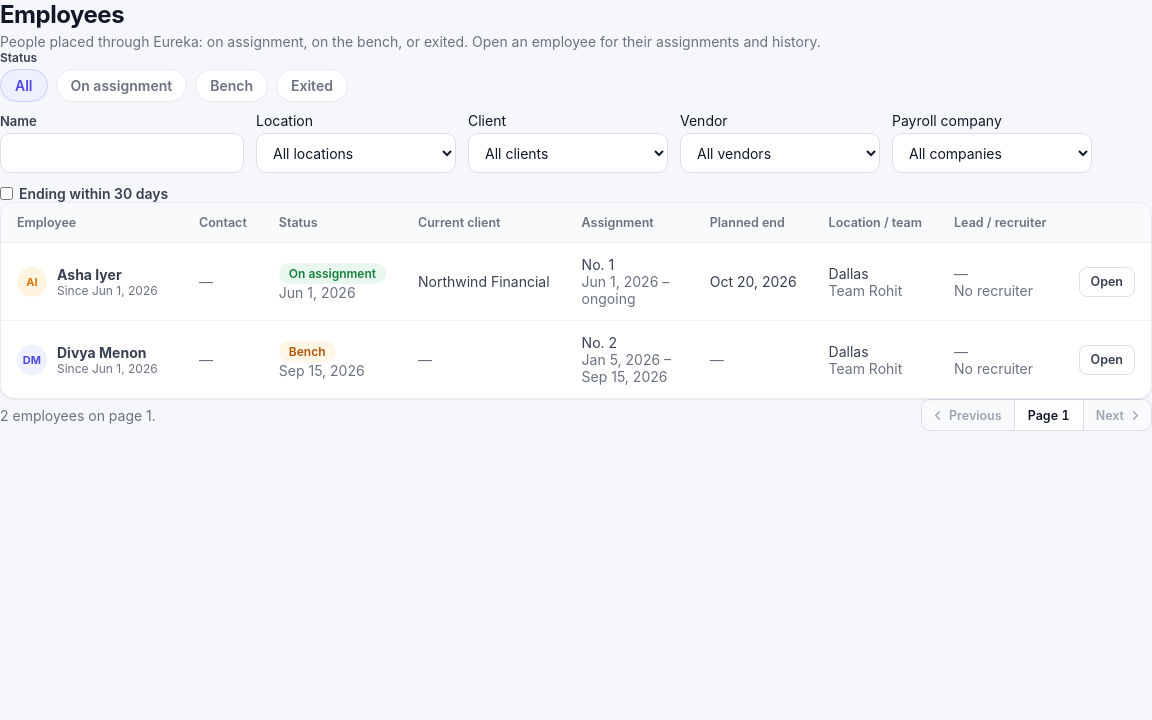
it: Employee drawer › refuses a future end date in the form, and shows server refusals in the dialog
This screenshot has width=1152, height=720.
Click the button "Open" in the row of "Asha Iyer" at (1107, 282), box left=1078, top=266, right=1135, bottom=296
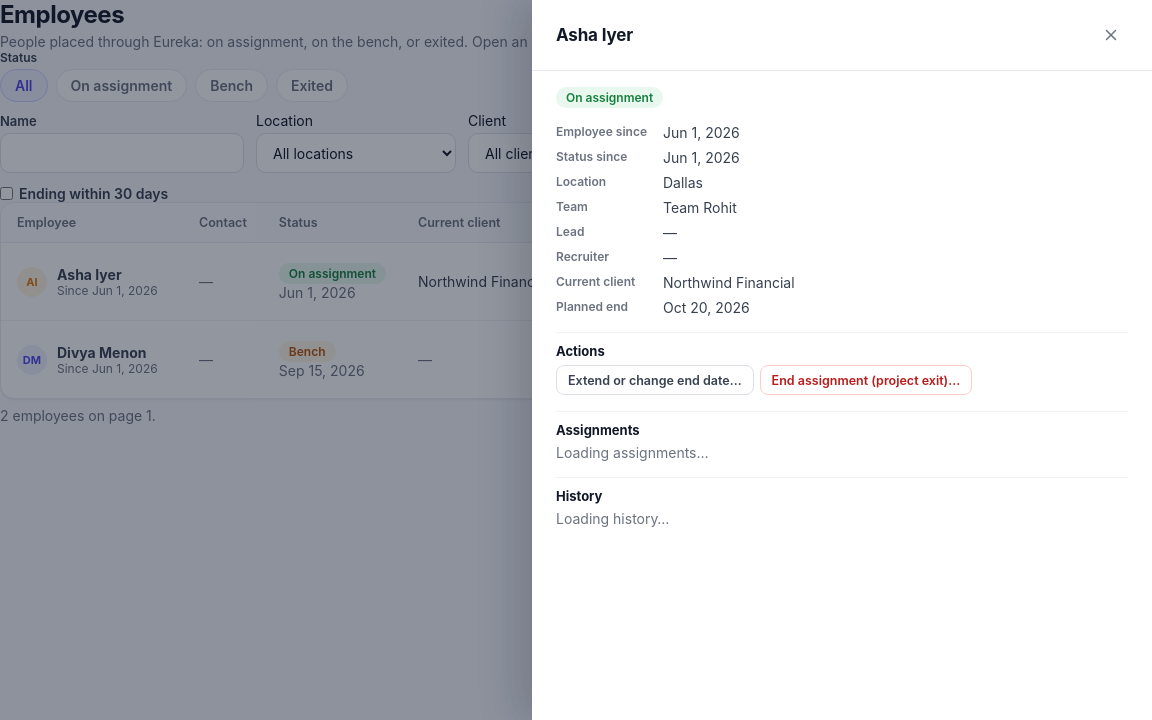
Click the button "End assignment (project exit)…" at (866, 380), box left=760, top=365, right=972, bottom=395
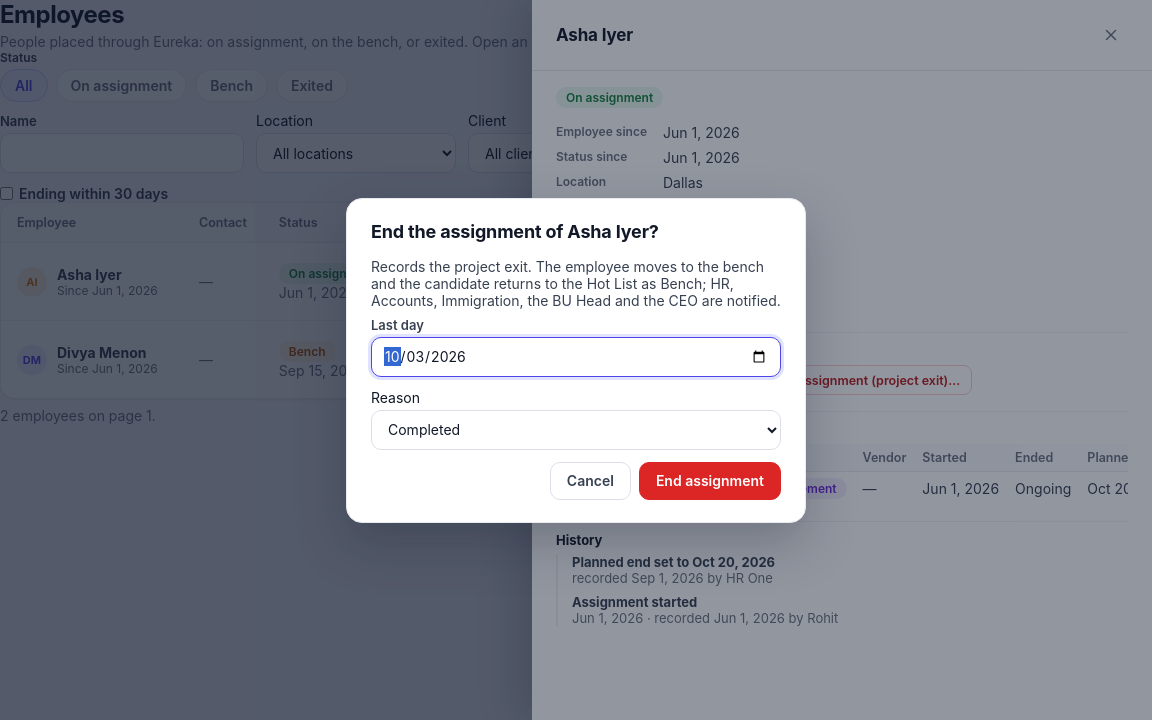
Type "2026-10-09" into the date field labelled "Last day" at (576, 356), box left=371, top=336, right=781, bottom=376
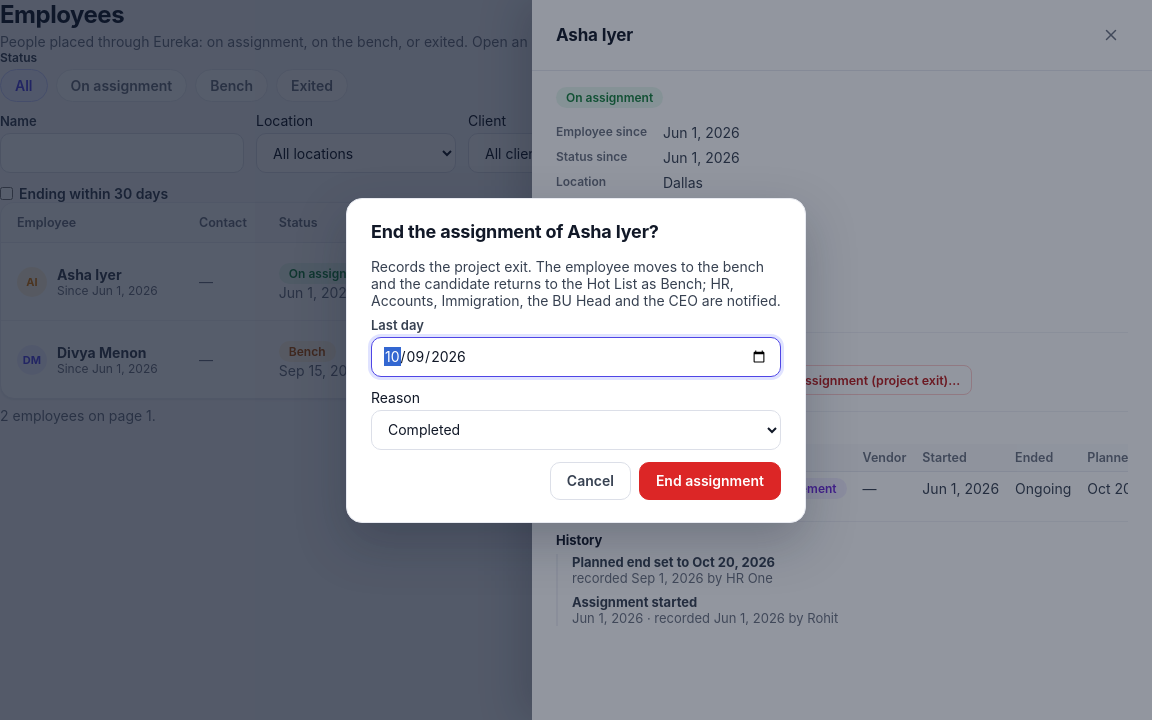
Click the button "End assignment" at (710, 480), box left=639, top=462, right=781, bottom=500
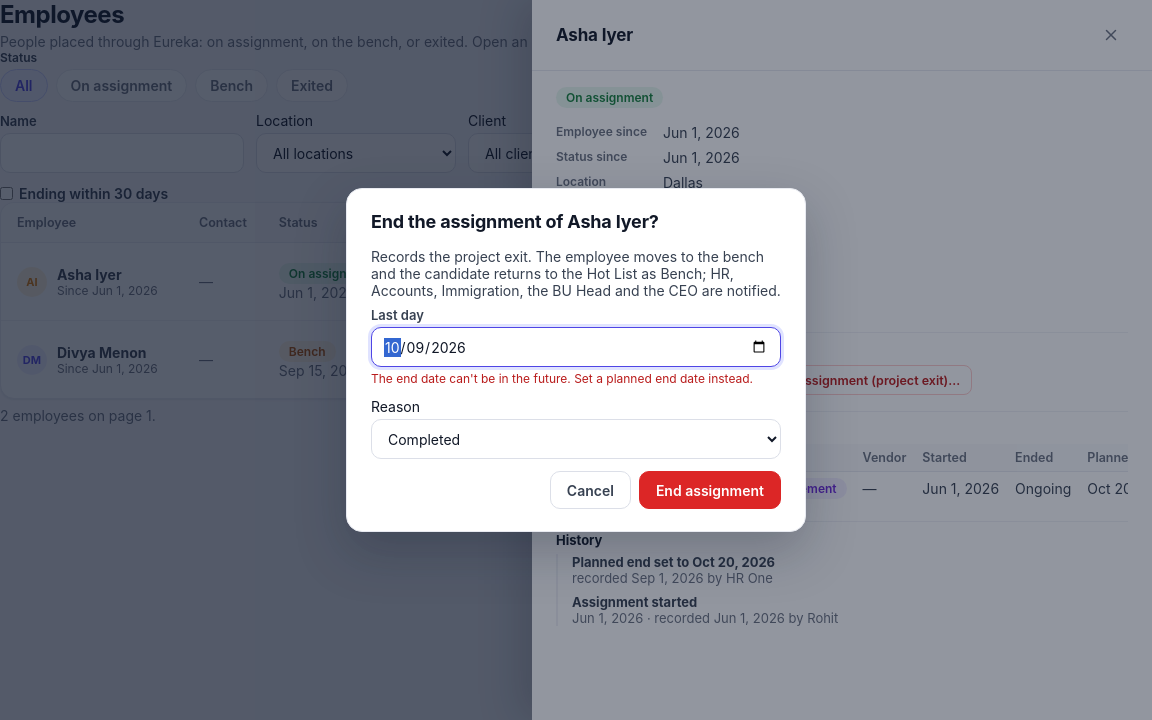
Expected: the text "can't be in the future" is shown, left=371, top=371, right=753, bottom=386
Type "2026-10-02" into the date field labelled "Last day" at (576, 347), box left=371, top=327, right=781, bottom=367
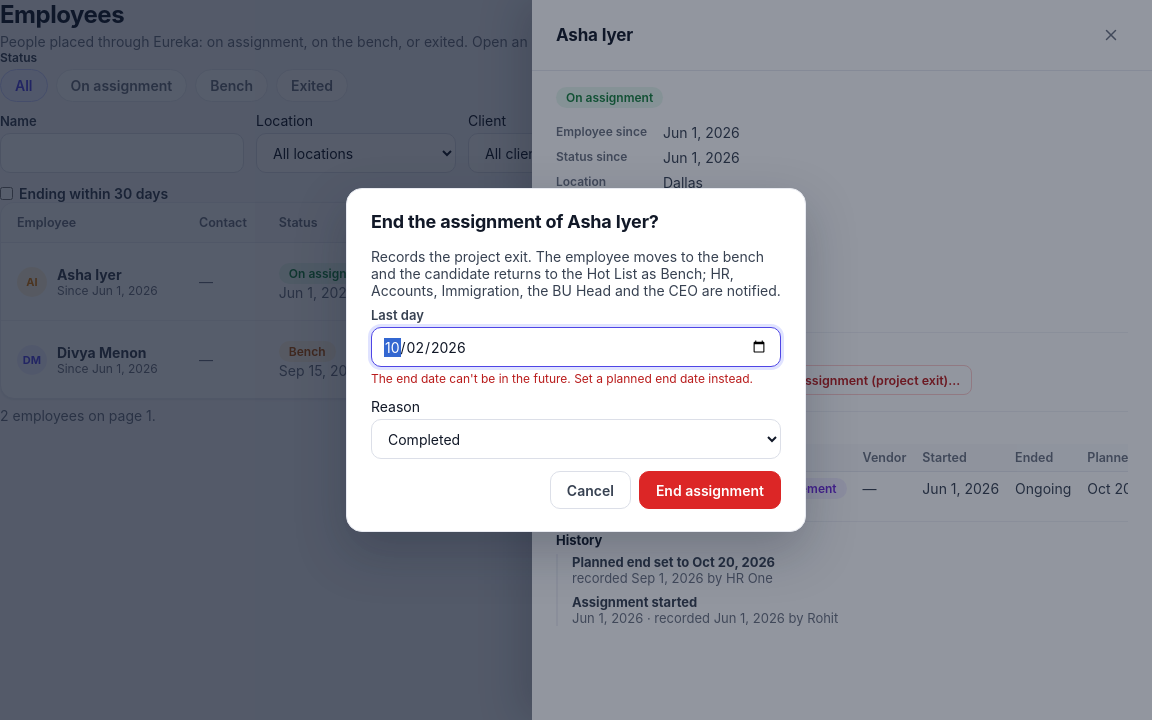
Click the button "End assignment" at (710, 490), box left=639, top=471, right=781, bottom=509
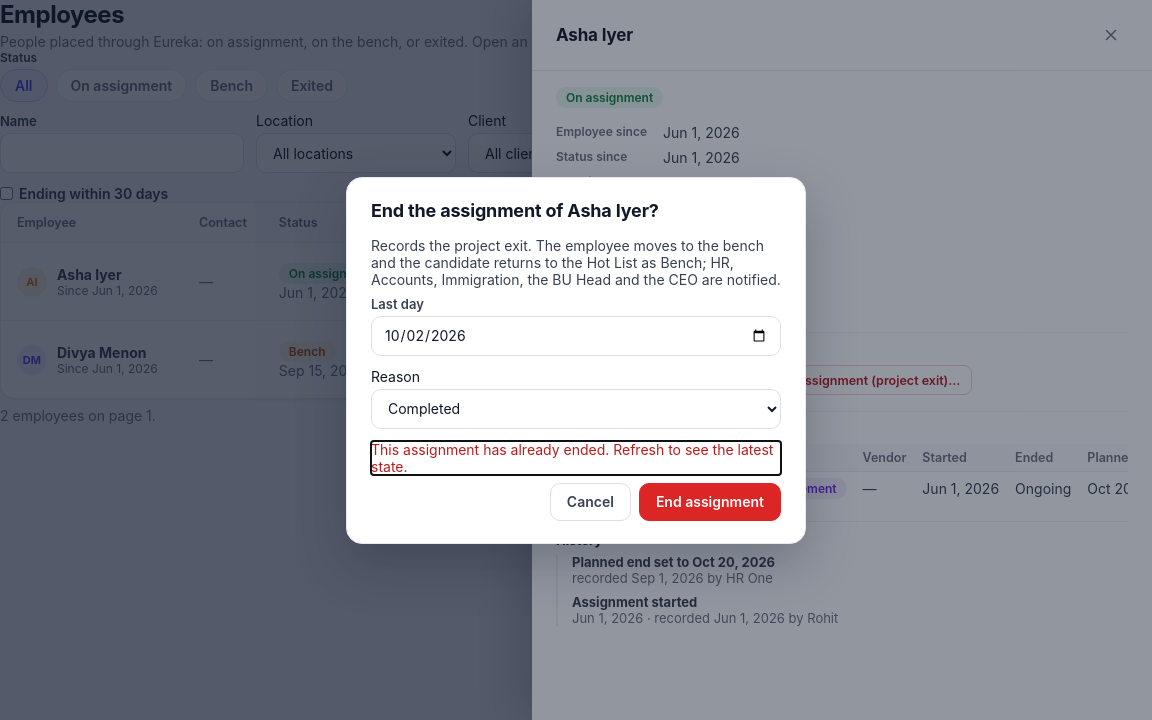
Expected: the message shows "already ended", left=371, top=440, right=773, bottom=474
